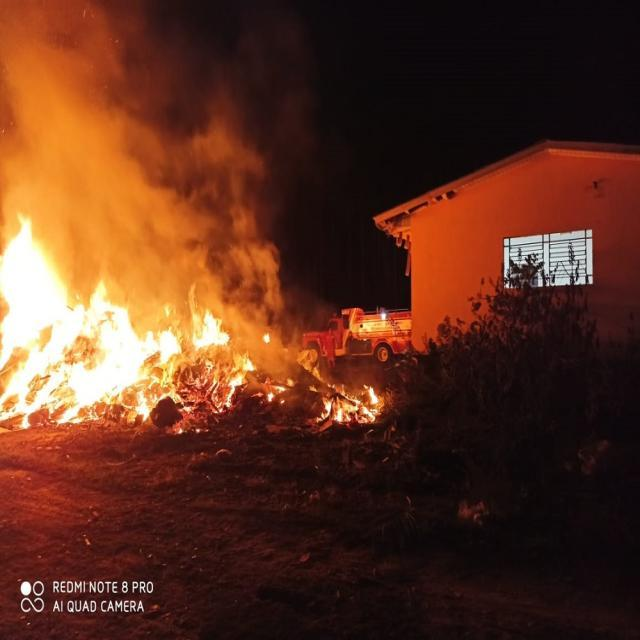Fire: (0, 208, 69, 428), (67, 280, 153, 426), (182, 282, 258, 391), (153, 304, 184, 408), (351, 380, 381, 425), (318, 397, 352, 427), (209, 388, 234, 411), (266, 386, 288, 408), (262, 331, 272, 345)
Smoke: (174, 92, 283, 313), (0, 0, 92, 211), (94, 0, 174, 210), (69, 211, 211, 291)
